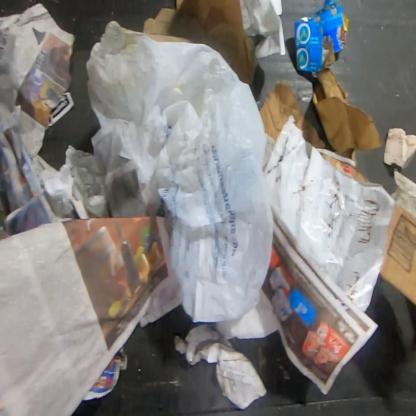cardboard: (142, 0, 252, 86), (311, 65, 382, 168), (259, 79, 329, 150), (379, 202, 415, 307), (294, 4, 348, 72)
soft_plastic: (86, 20, 274, 324)
